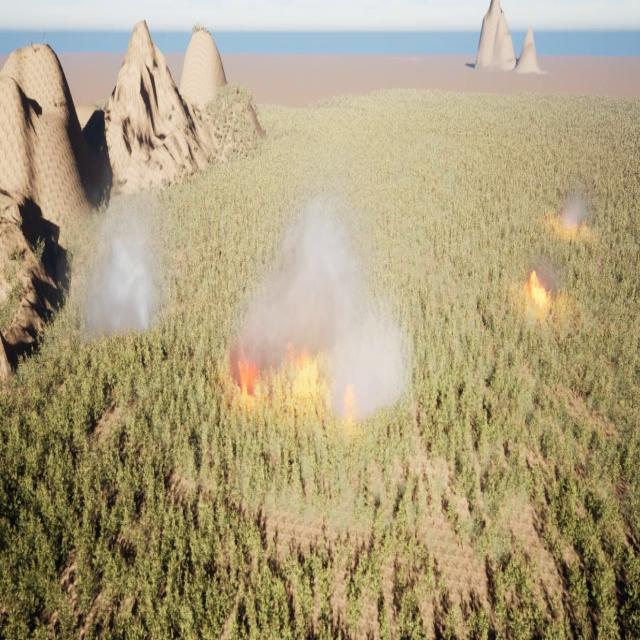fire: (285, 339, 327, 396), (232, 344, 257, 388), (528, 266, 551, 306), (345, 385, 358, 418)
smoke: (236, 194, 412, 428), (72, 192, 165, 335), (533, 244, 557, 291), (560, 193, 588, 233)
